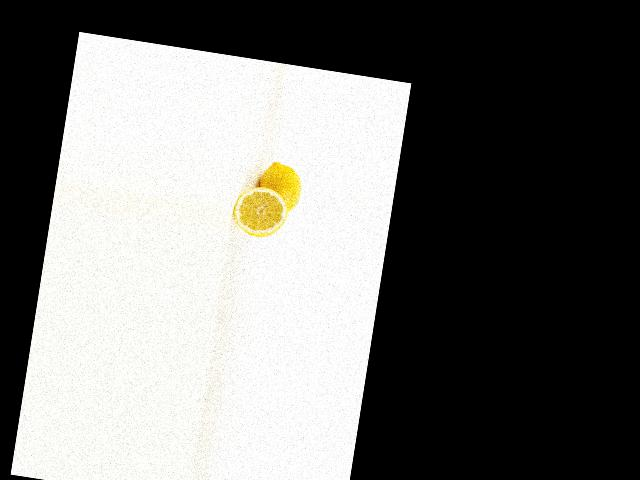lemon: (250, 157, 305, 215)
